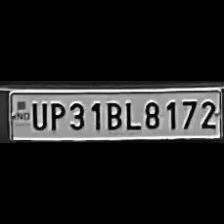1: (162, 98, 178, 130), (87, 99, 103, 130)
2: (196, 98, 216, 130)
3: (66, 99, 86, 130)
7: (176, 98, 196, 130)
8: (140, 98, 162, 130)
B: (102, 98, 122, 130)
L: (122, 99, 140, 131)
P: (46, 99, 66, 130)
U: (29, 99, 47, 130)
